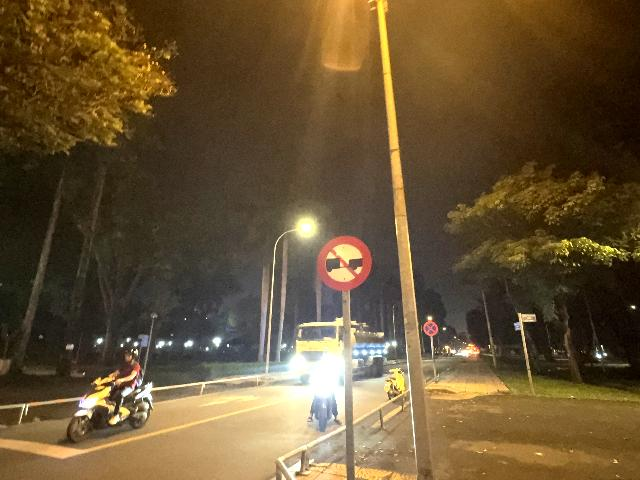cam-xe-somi-romooc: (317, 236, 371, 291)
